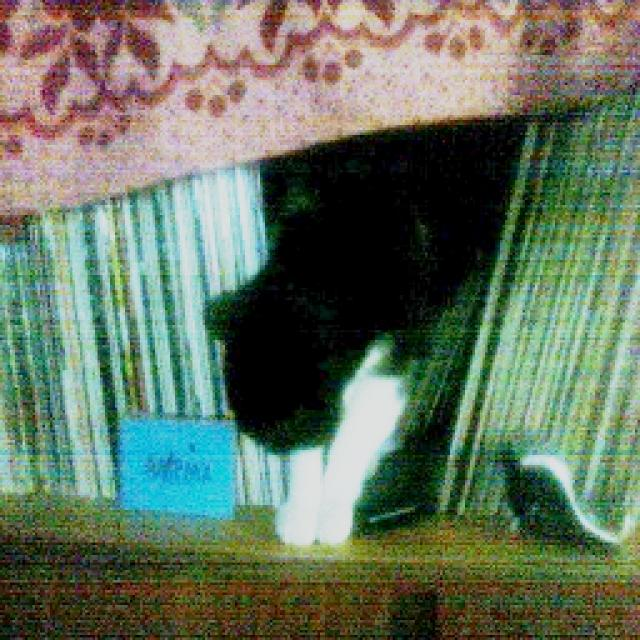cat: (197, 209, 458, 550)
